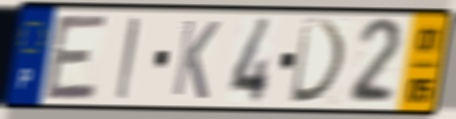2: (348, 15, 406, 109)
4: (226, 15, 273, 106)
D: (287, 16, 350, 106)
E: (42, 11, 111, 103)
I: (113, 14, 142, 102)
K: (169, 17, 222, 103)
